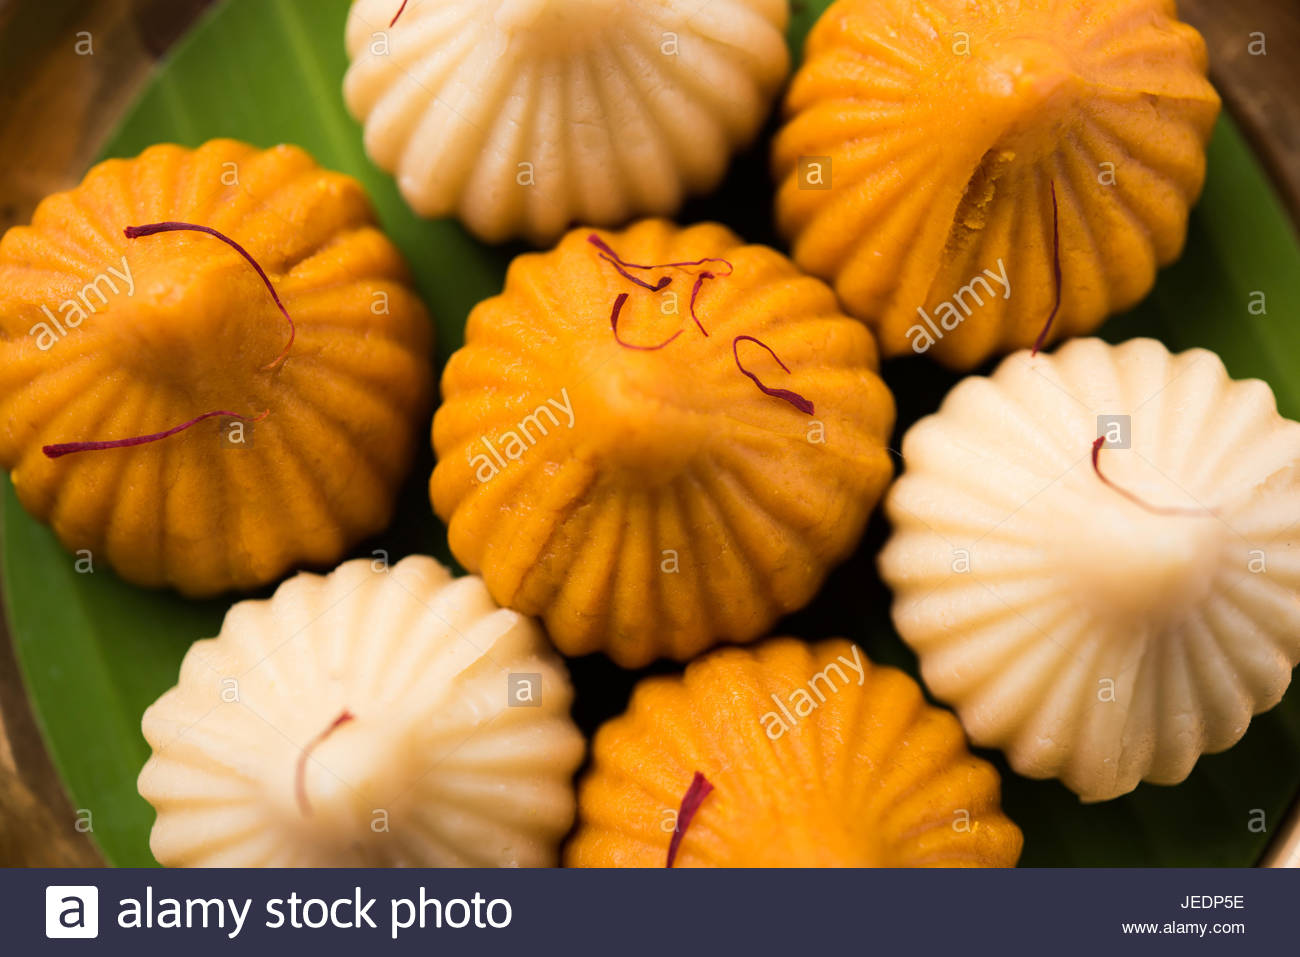modak: (8, 131, 463, 569), (441, 239, 873, 626), (118, 543, 618, 876), (935, 357, 1300, 788), (795, 22, 1233, 323), (575, 621, 1030, 875), (331, 5, 803, 219)
